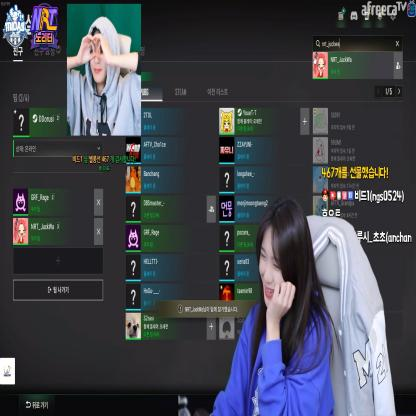donation: (67, 3, 140, 173), (320, 164, 390, 182)
streamer: (209, 197, 334, 416)
